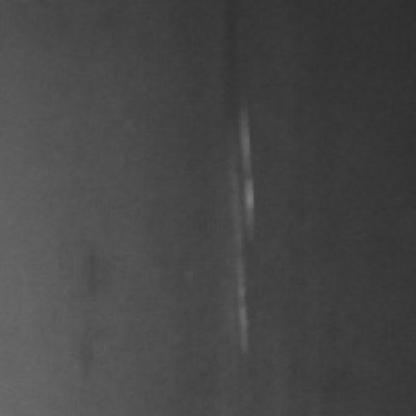inclusion: (77, 252, 106, 320)
scratches: (220, 106, 256, 356)
